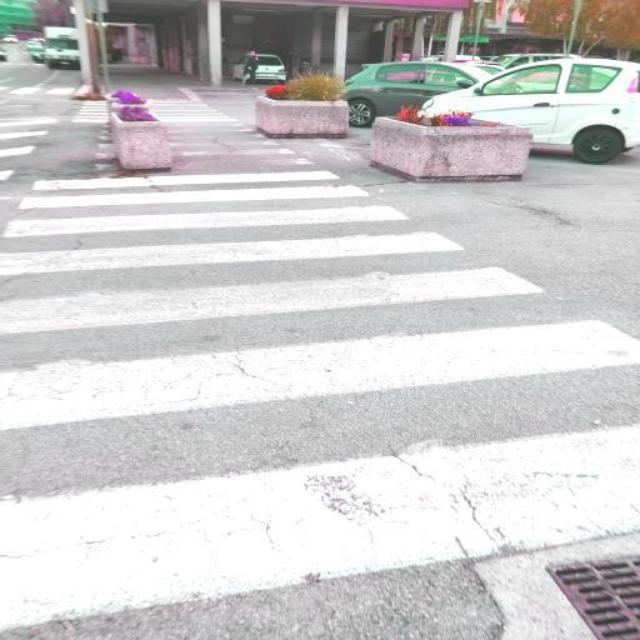sidewalk: (1, 95, 640, 631)
